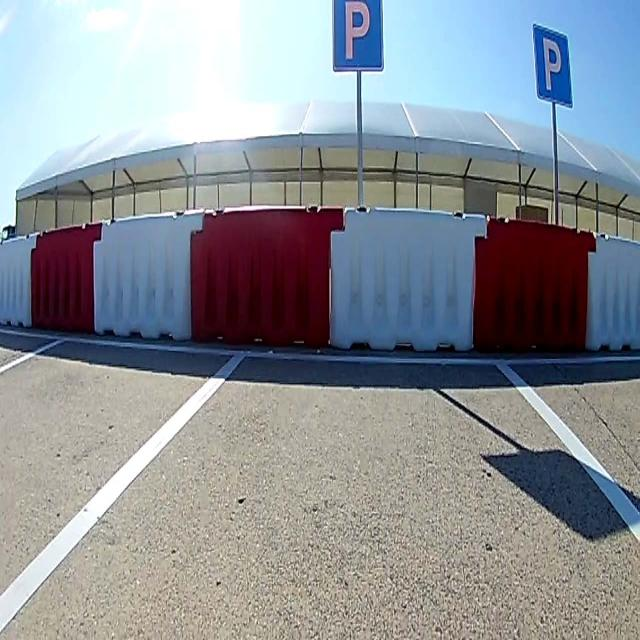park: (333, 1, 383, 67), (534, 27, 572, 104)
